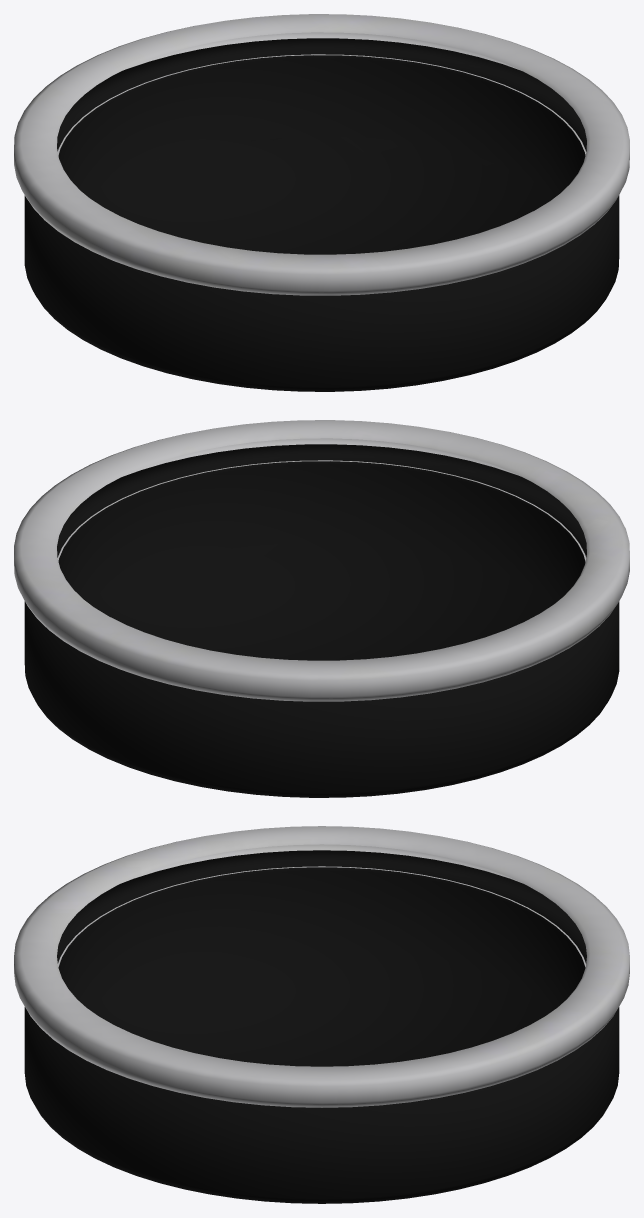
Rendered from portavasos_final.glb.
The picture shows the model from 3 angles, top to bottom: view 1: azimuth 30°, elevation 25°; view 2: azimuth 150°, elevation 25°; view 3: azimuth 270°, elevation 25°; orthographic projection.
Parts seen in each view (by area): view 1: SM_el, SM_u; view 2: SM_el, SM_u; view 3: SM_el, SM_u.
Boxes of the visible parts, left/top/right/bottom form: SM_el: left=24, top=38, right=619, bottom=391; SM_u: left=14, top=14, right=629, bottom=295; SM_el: left=24, top=444, right=619, bottom=797; SM_u: left=14, top=420, right=629, bottom=701; SM_el: left=24, top=850, right=619, bottom=1203; SM_u: left=14, top=826, right=629, bottom=1107.
Bounding box in the file's own units: 0.086 × 0.0195 × 0.086.
Materials: 2 (2 with a texture image).
